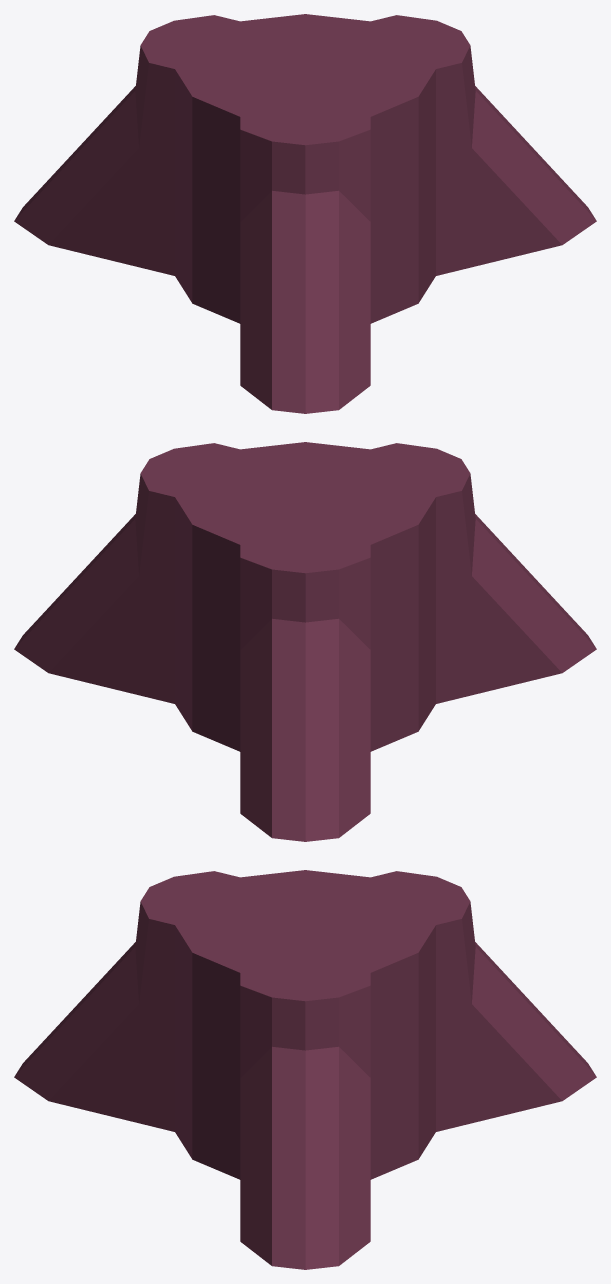
Rendered from stump3.fbx.
The picture shows the model from 3 angles, top to bottom: view 1: azimuth 30°, elevation 25°; view 2: azimuth 150°, elevation 25°; view 3: azimuth 270°, elevation 25°; orthographic projection.
Visible parts, largest first — view 1: Cylinder.003; view 2: Cylinder.003; view 3: Cylinder.003.
Part boxes in pixels (x1=…): Cylinder.003: x1=14, y1=14, x2=596, y2=413; Cylinder.003: x1=14, y1=442, x2=596, y2=841; Cylinder.003: x1=14, y1=870, x2=596, y2=1269.
Size of the model in its own units: 394 by 175 by 447.
